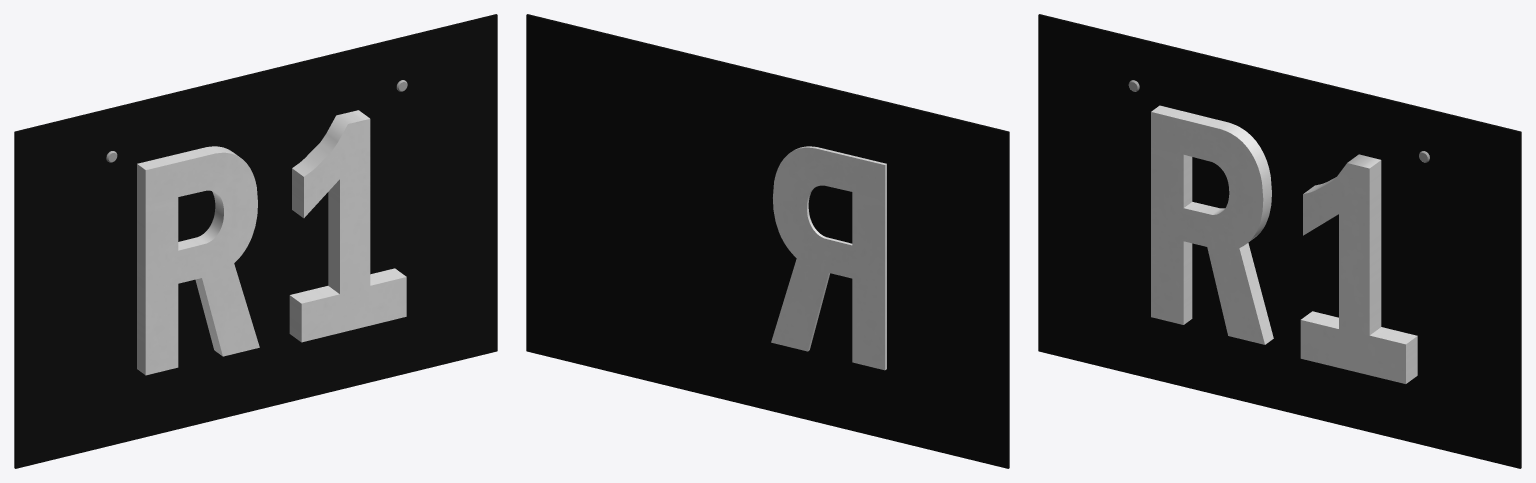
File: room_plate1.glb
3 views of the same model, side by side, from view 1: azimuth 30°, elevation 25°; view 2: azimuth 150°, elevation 25°; view 3: azimuth 330°, elevation 25° (orthographic).
Visible parts, largest first — view 1: NumberPlateTwoRow_38, Object_18, Object_24; view 2: NumberPlateTwoRow_38, Object_18; view 3: NumberPlateTwoRow_38, Object_18, Object_24.
Part boxes in pixels (x1,y1,x2,y2): NumberPlateTwoRow_38: [14, 14, 497, 468]; Object_18: [137, 146, 259, 375]; Object_24: [289, 110, 406, 342]; NumberPlateTwoRow_38: [526, 14, 1009, 468]; Object_18: [771, 146, 886, 370]; NumberPlateTwoRow_38: [1038, 14, 1521, 468]; Object_18: [1151, 105, 1273, 344]; Object_24: [1300, 154, 1417, 383].
Bounding box in the file's own units: 0.2181 × 0.1454 × 0.0117.
1 material, 1 textured.
